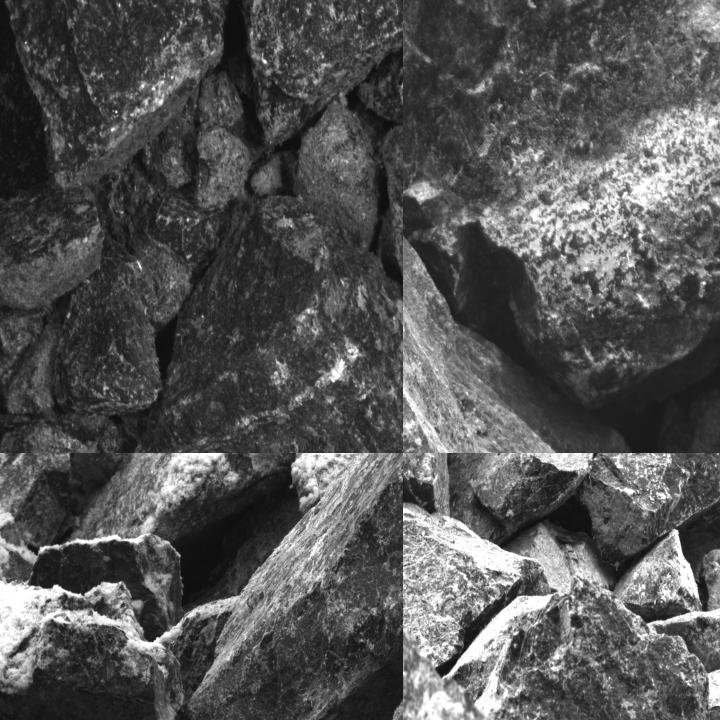stone: (403, 0, 719, 417), (403, 137, 652, 452), (129, 192, 402, 452), (184, 453, 402, 719), (0, 0, 239, 199), (0, 549, 186, 719), (52, 453, 323, 555), (403, 499, 552, 669), (239, 0, 402, 154), (575, 453, 719, 569), (51, 266, 159, 416), (446, 453, 596, 549), (294, 98, 382, 242), (141, 69, 243, 191), (0, 197, 102, 306), (112, 166, 221, 254), (614, 529, 702, 623), (105, 232, 188, 324), (193, 124, 255, 210), (0, 318, 54, 411), (647, 606, 719, 674), (251, 153, 295, 191)
